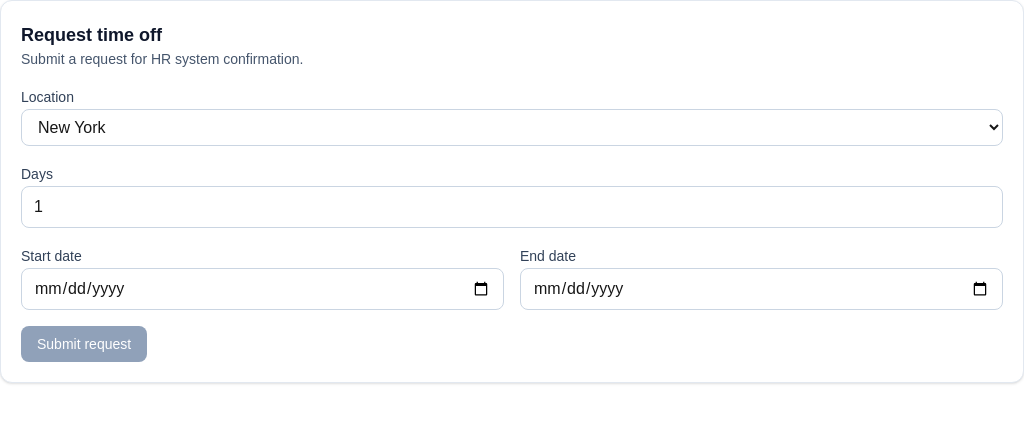
it: RequestForm › blocks submit when days exceed balance
Replace the text in the number field with "999" at (512, 207), box [21,186,1003,228]
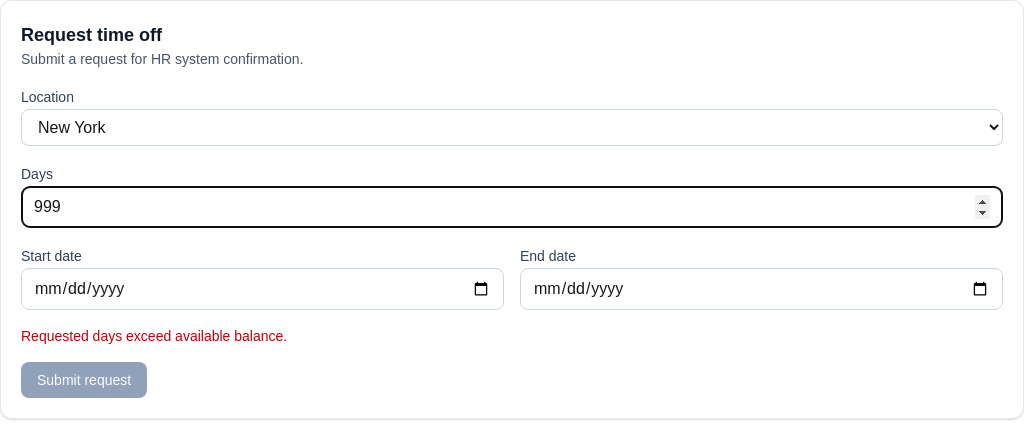
Expected: the button "Submit request" is disabled, [21,362,147,398]
Now the text "Requested days exceed available balance." is shown, box [21,328,287,344]
